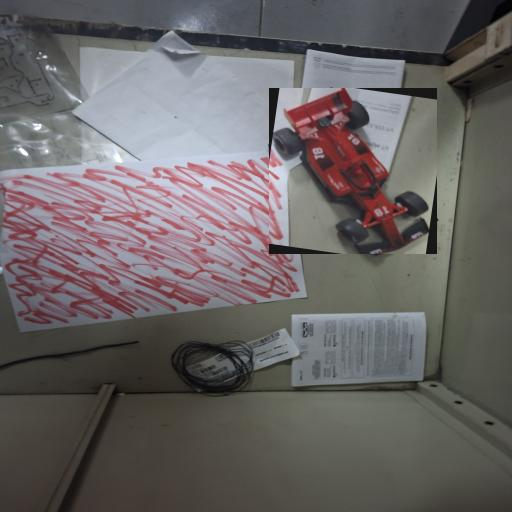carro: (268, 89, 436, 253)
